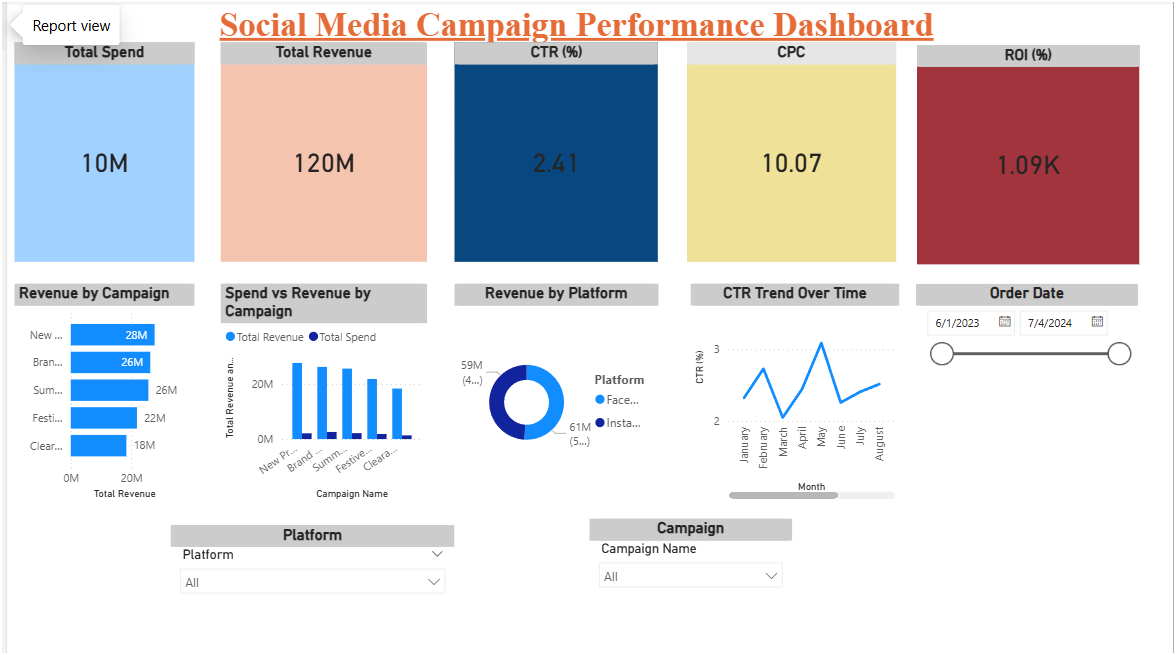

This screenshot's page, from the dashboard's own definition file:
{"tool":"powerbi","page":{"name":"Page 1","canvas":[1280,720],"ordinal":0},"visuals":[{"type":"textbox","box":[8.7,0,1234.1,92.9],"z":0},{"type":"card","title":"Total Spend","fields":{"Values":["social_media_campaign_task2.Total Spend"]},"box":[8.7,46.5,197.5,241],"z":1},{"type":"card","title":"Total Revenue","fields":{"Values":["social_media_campaign_task2.Total Revenue"]},"box":[235.2,46.5,226.5,241],"z":2},{"type":"card","title":"CTR (%)","fields":{"Values":["social_media_campaign_task2.CTR (%)"]},"box":[490.7,46.5,223.6,241],"z":3},{"type":"card","title":"CPC","fields":{"Values":["social_media_campaign_task2.CPC"]},"box":[746.3,46.5,229.4,241],"z":4},{"type":"card","title":"ROI (%)","fields":{"Values":["social_media_campaign_task2.ROI (%)"]},"box":[998.9,49.4,243.9,241],"z":6},{"type":"clusteredBarChart","title":"Revenue by Campaign","fields":{"Category":["social_media_campaign_task2.Campaign Name"],"Y":["social_media_campaign_task2.Total Revenue"]},"box":[8.2,311.5,197.6,241.5],"z":7},{"type":"clusteredColumnChart","title":"Spend vs Revenue by Campaign","fields":{"Category":["social_media_campaign_task2.Campaign Name"],"Y":["social_media_campaign_task2.Total Revenue","social_media_campaign_task2.Total Spend"]},"box":[234.6,311.5,226.4,241.5],"z":8},{"type":"donutChart","title":"Revenue by Platform","fields":{"Category":["social_media_campaign_task2.Platform"],"Y":["social_media_campaign_task2.Total Revenue"]},"box":[491.3,311.5,223.7,241.5],"z":9},{"type":"lineChart","title":"CTR Trend Over Time","fields":{"Category":["social_media_campaign_task2.Date.Variation.Date Hierarchy.Month"],"Y":["social_media_campaign_task2.CTR (%)"]},"box":[750.6,311.5,229.2,241.5],"z":10},{"type":"slicer","title":"Order Date","fields":{"Values":["social_media_campaign_task2.Date"]},"box":[997.6,311.5,244.3,240.1],"z":11},{"type":"slicer","title":"Platform","fields":{"Values":["social_media_campaign_task2.Platform"]},"box":[179.8,576.3,311.5,119.4],"z":12},{"type":"slicer","title":"Campaign","fields":{"Values":["social_media_campaign_task2.Campaign Name"]},"box":[639.5,569.5,222.3,150.9],"z":13}]}

Visuals, with their boxes on the page's 1280x720 design canvas (x1, y1, x2, y2). These are canvas units, not pixel positions in the 1176x655 screenshot, which may show the page scaled, cropped or inside an application window:
textbox: 9:0:1243:93
"Total Spend" card: 9:46:206:288
"Total Revenue" card: 235:46:462:288
"CTR (%)" card: 491:46:714:288
"CPC" card: 746:46:976:288
"ROI (%)" card: 999:49:1243:290
"Revenue by Campaign" clusteredBarChart: 8:312:206:553
"Spend vs Revenue by Campaign" clusteredColumnChart: 235:312:461:553
"Revenue by Platform" donutChart: 491:312:715:553
"CTR Trend Over Time" lineChart: 751:312:980:553
"Order Date" slicer: 998:312:1242:552
"Platform" slicer: 180:576:491:696
"Campaign" slicer: 640:570:862:720
